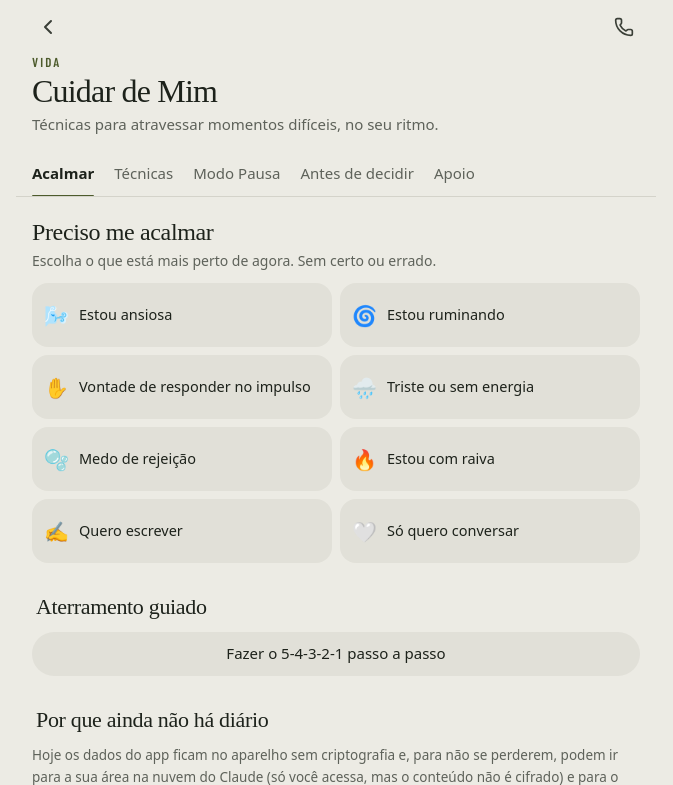
Test: Cuidar de Mim screens › "quero escrever": rascunho não é salvo
This screenshot has width=673, height=785.
Later steps or results of the test are not shown.
Step 1. Click the text "Quero escrever" → (131, 531), box top-left (79, 522), bottom-right (183, 541)
(page scrolled)
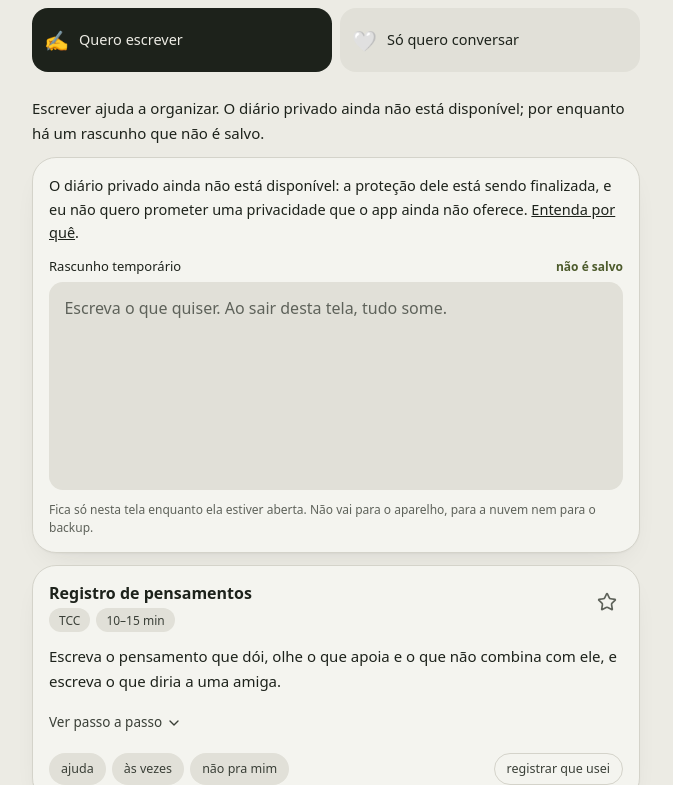
Expected: the text "não é salvo" is shown, top-left (556, 258), bottom-right (623, 275)
